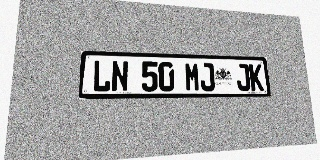0: (158, 62, 174, 92)
5: (142, 61, 158, 92)
J: (199, 63, 215, 91), (235, 64, 251, 91)
K: (249, 64, 264, 91)
L: (92, 60, 111, 92)
M: (184, 62, 200, 91)
N: (111, 60, 128, 92)
